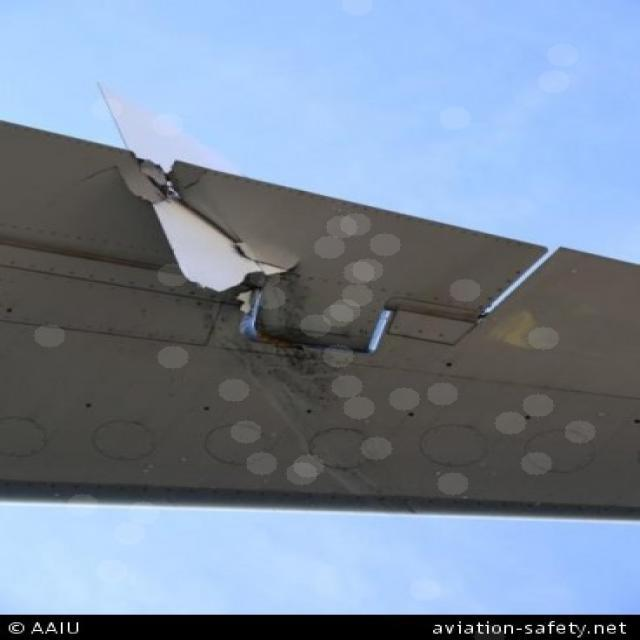crack: (76, 161, 128, 208)
